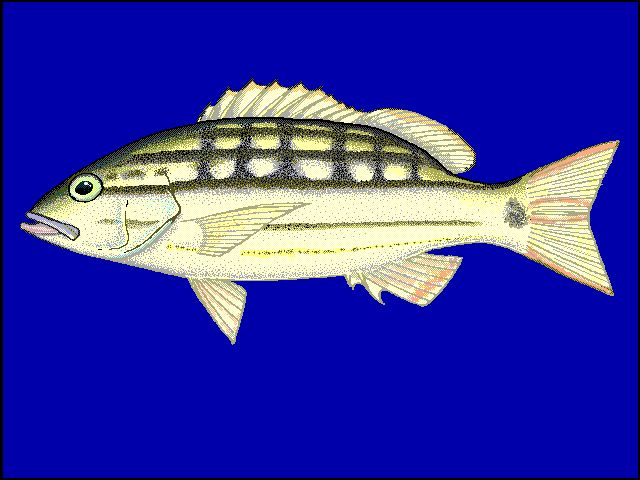fish: (18, 77, 620, 346)
